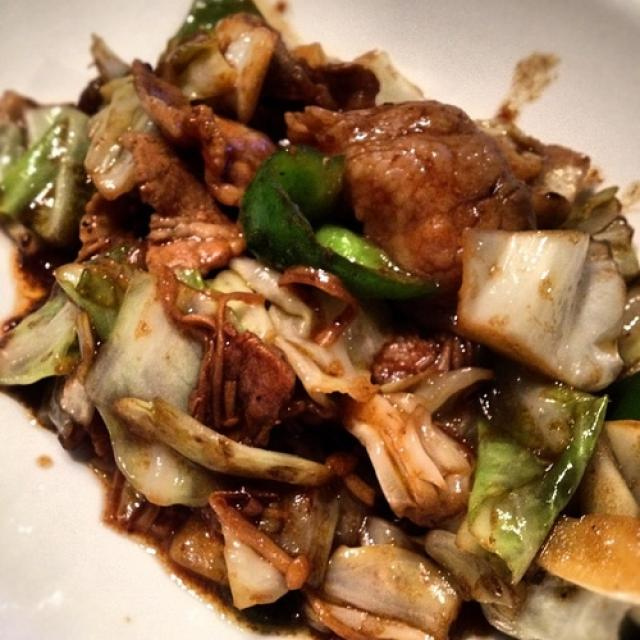猪肉菜式: (8, 5, 613, 631)
